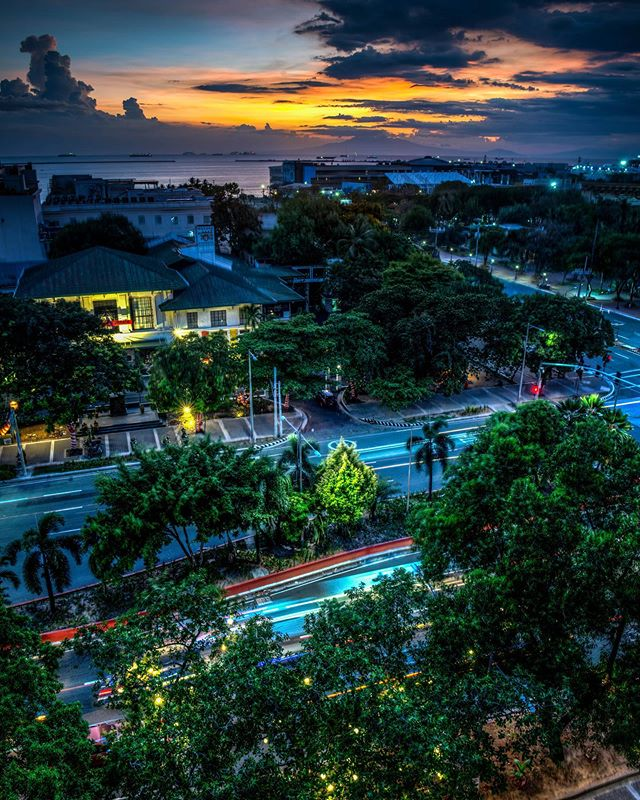building: (1, 250, 293, 358), (1, 178, 230, 253), (282, 155, 542, 196)
sky: (1, 1, 619, 168)
street: (10, 398, 532, 600)
tree: (446, 426, 640, 799), (1, 571, 268, 800), (48, 453, 355, 628), (287, 575, 438, 778), (253, 302, 401, 432), (357, 253, 496, 389), (1, 285, 124, 438), (495, 278, 620, 397), (148, 335, 240, 437)
vegetation: (290, 197, 634, 274)
